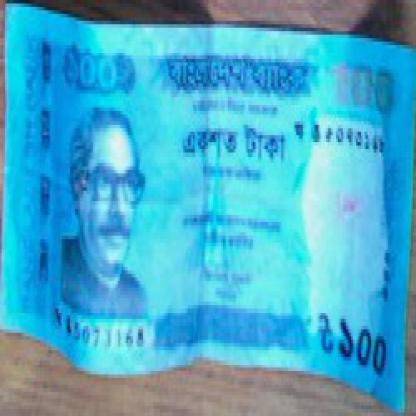one hundred taka: (328, 55, 398, 118), (336, 305, 390, 378), (64, 38, 126, 97)
